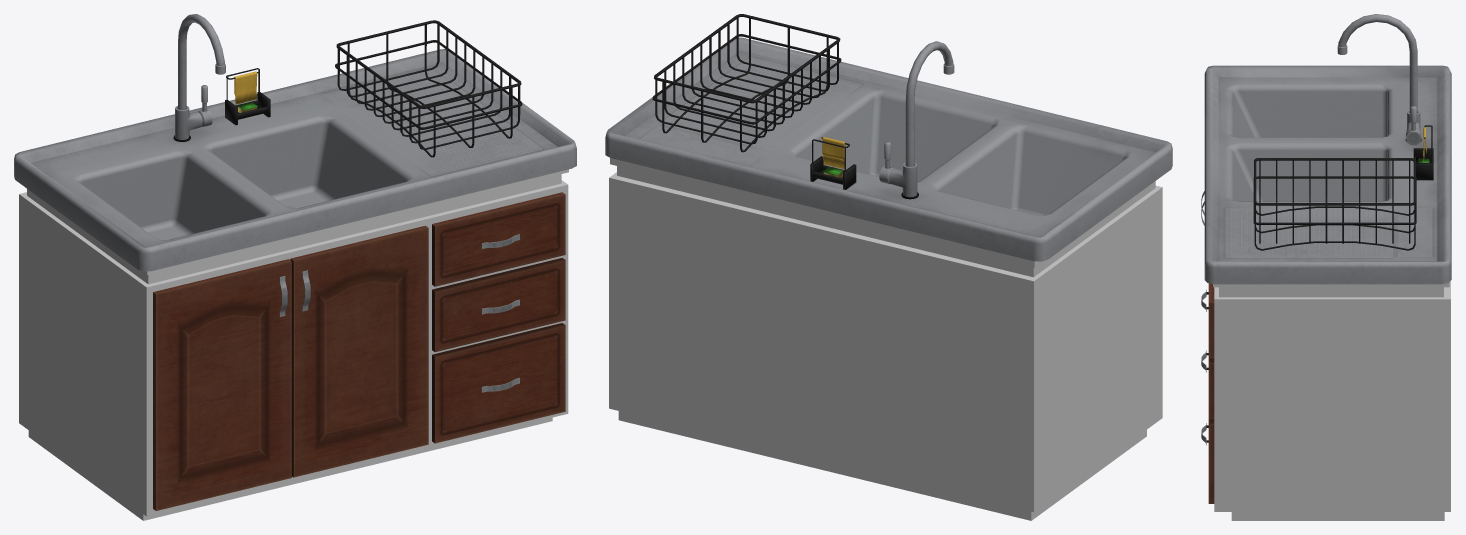
The model's file is KitchenSink.fbx.
3 views of the same model, side by side, from view 1: azimuth 30°, elevation 25°; view 2: azimuth 150°, elevation 25°; view 3: azimuth 270°, elevation 25° (orthographic). The views are drawn at different scales.
Parts seen in each view (by area): view 1: Cabinet, Sink, Drainer, Faucet, CleaningCloth; view 2: Cabinet, Sink, Drainer, Faucet, CleaningCloth; view 3: Cabinet, Sink, Drainer, Faucet, CleaningCloth, Lever.
Boxes of the visible parts, x1=… form: Cabinet: x1=19, y1=169, x2=568, y2=520; Sink: x1=14, y1=49, x2=576, y2=271; Drainer: x1=335, y1=20, x2=522, y2=157; Faucet: x1=173, y1=14, x2=225, y2=141; CleaningCloth: x1=225, y1=68, x2=270, y2=125; Cabinet: x1=609, y1=158, x2=1162, y2=520; Sink: x1=605, y1=37, x2=1172, y2=261; Drainer: x1=652, y1=14, x2=841, y2=152; Faucet: x1=889, y1=41, x2=954, y2=199; CleaningCloth: x1=810, y1=137, x2=856, y2=189; Cabinet: x1=1201, y1=191, x2=1450, y2=520; Sink: x1=1204, y1=65, x2=1451, y2=284; Drainer: x1=1253, y1=158, x2=1416, y2=250; Faucet: x1=1337, y1=14, x2=1421, y2=141; CleaningCloth: x1=1413, y1=125, x2=1433, y2=180; Lever: x1=1406, y1=106, x2=1421, y2=145.
Size of the model in its own units: 317 by 286 by 169.
